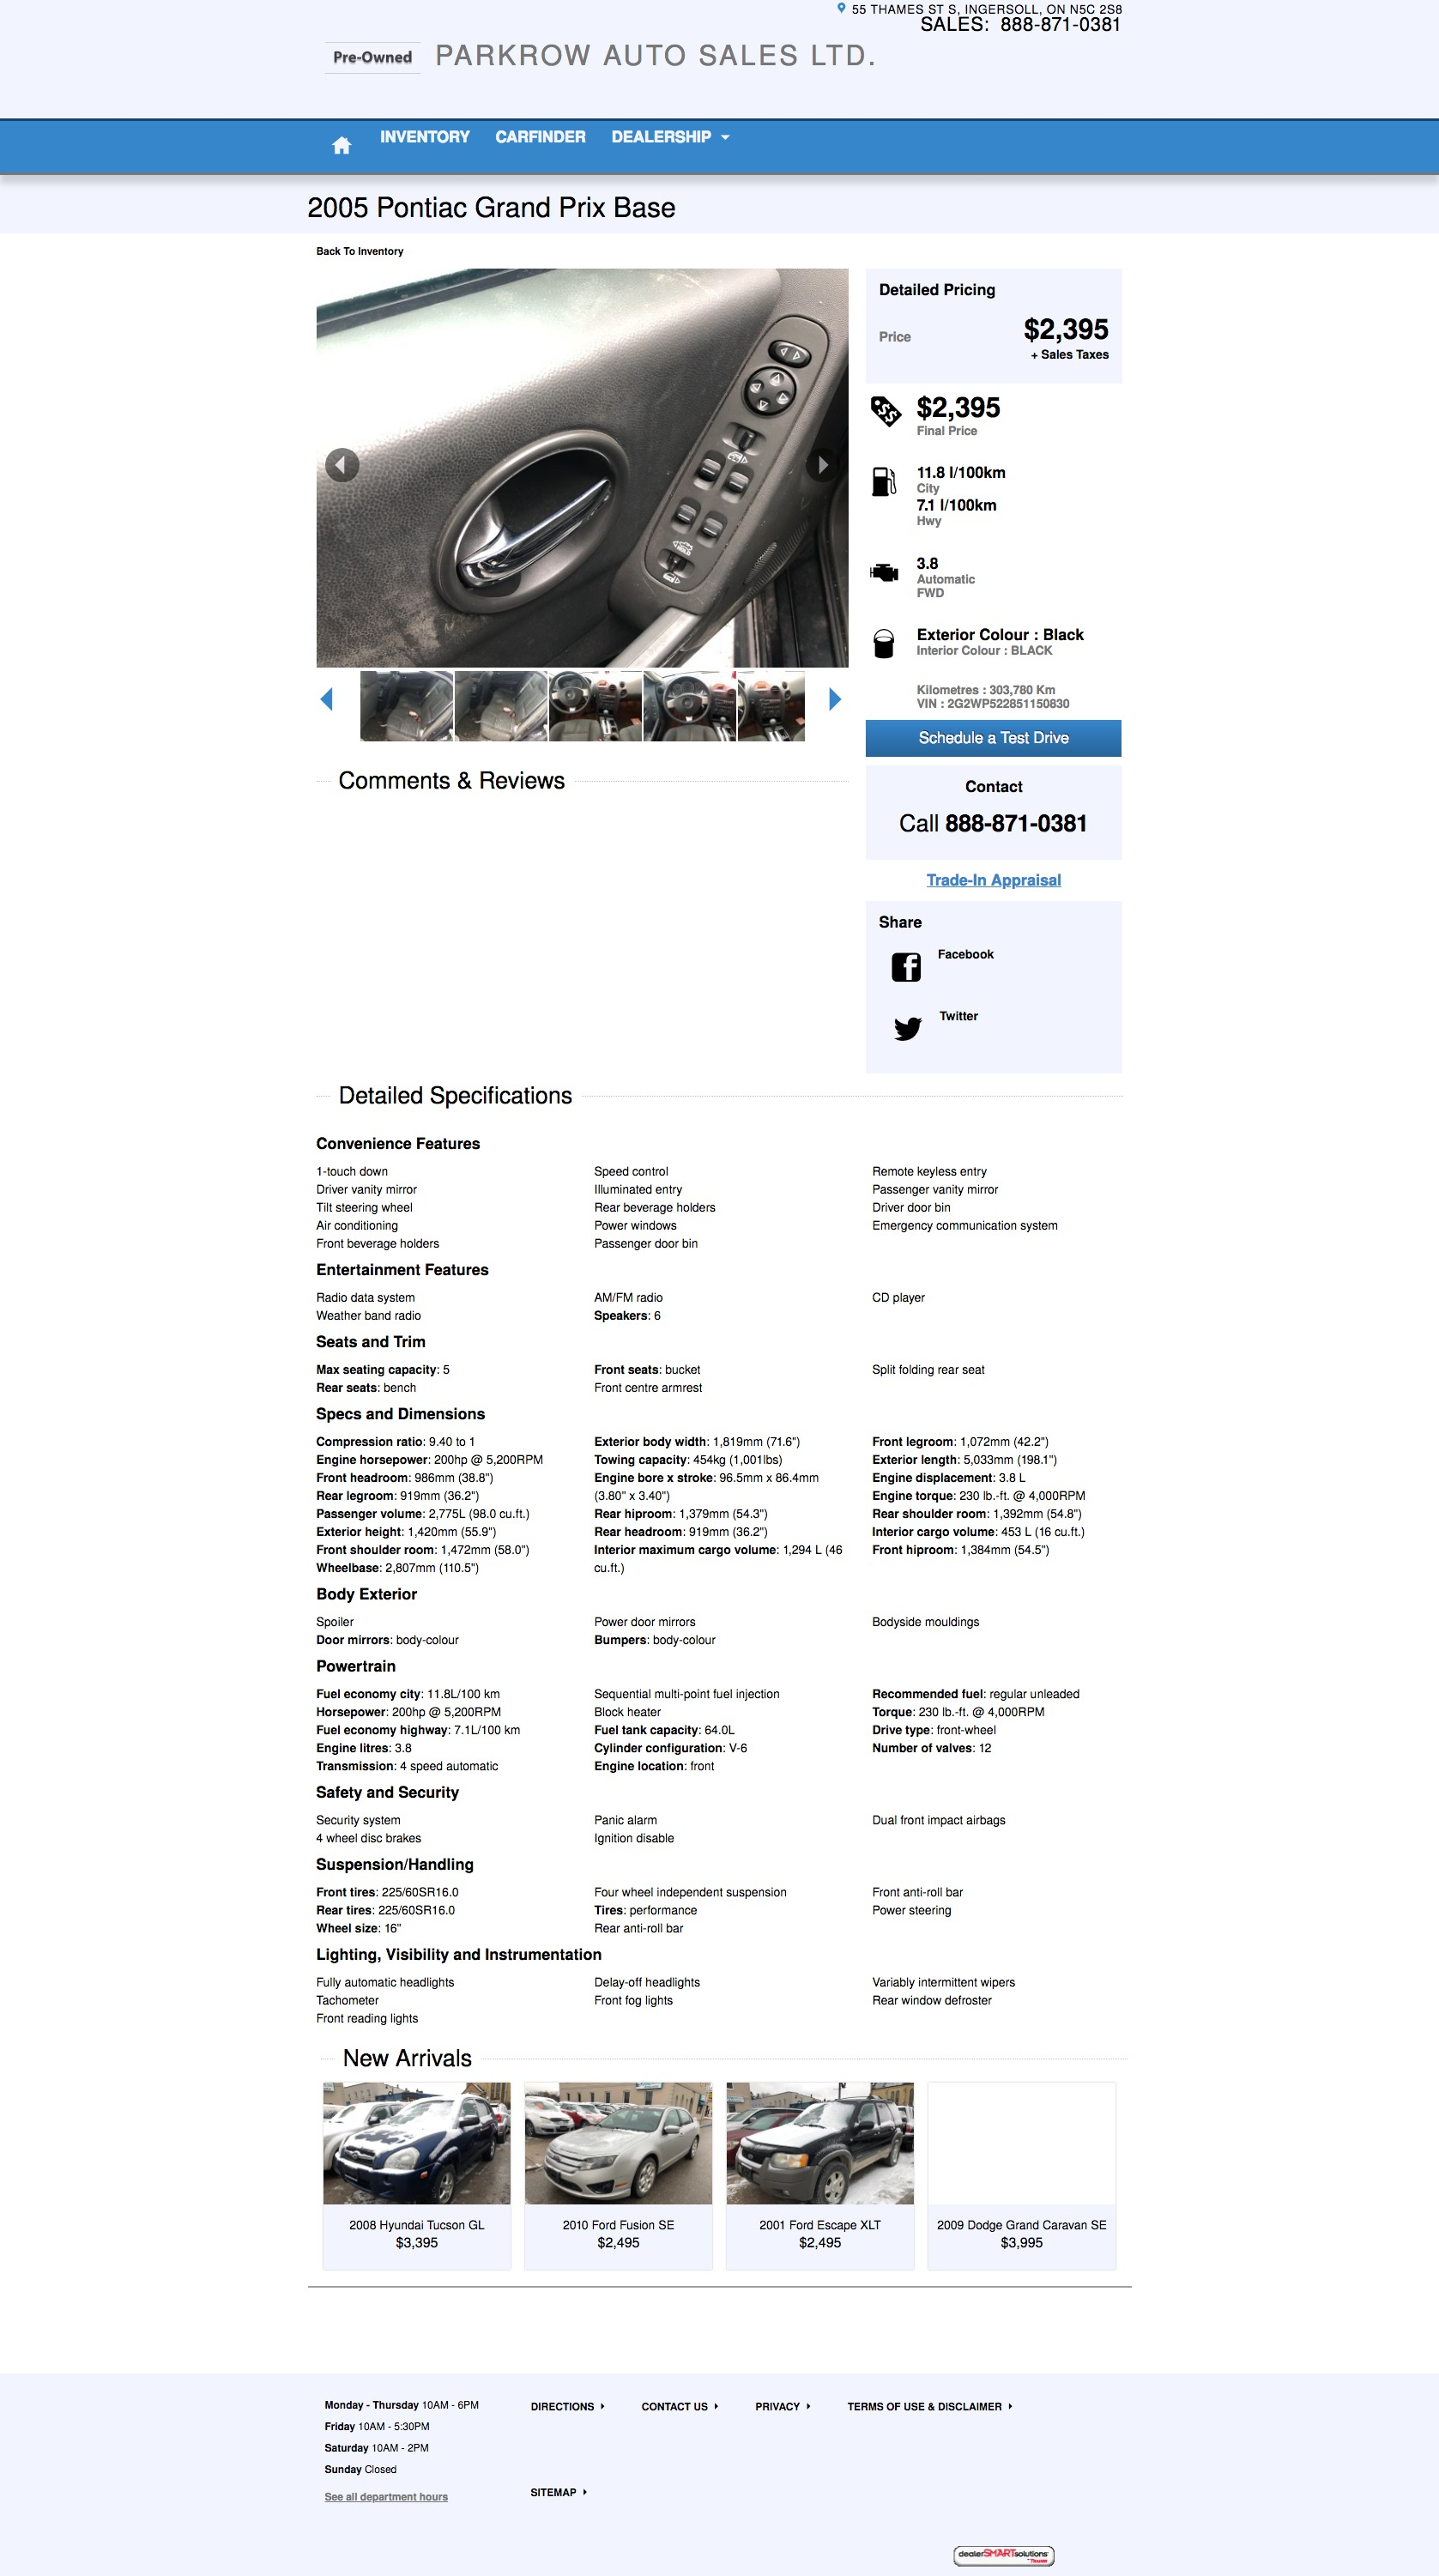car: (828, 686, 843, 713)
